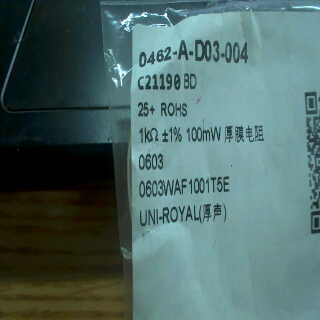1kR: (137, 122, 159, 147)
